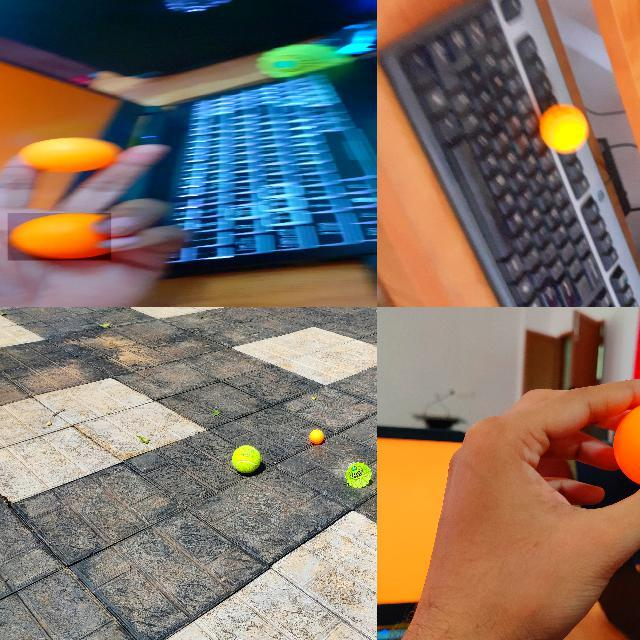ping-pong-ball: (8, 213, 112, 261), (18, 136, 120, 174), (612, 400, 639, 487), (538, 106, 586, 154), (309, 430, 323, 442)
